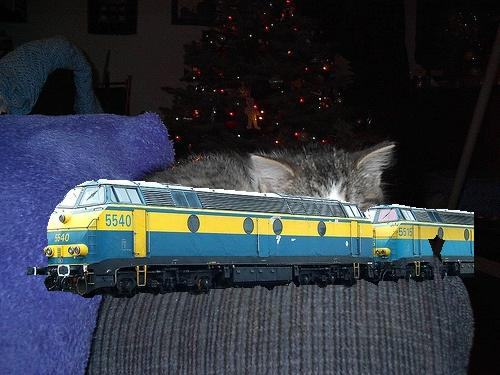tampered: (28, 180, 474, 298)
